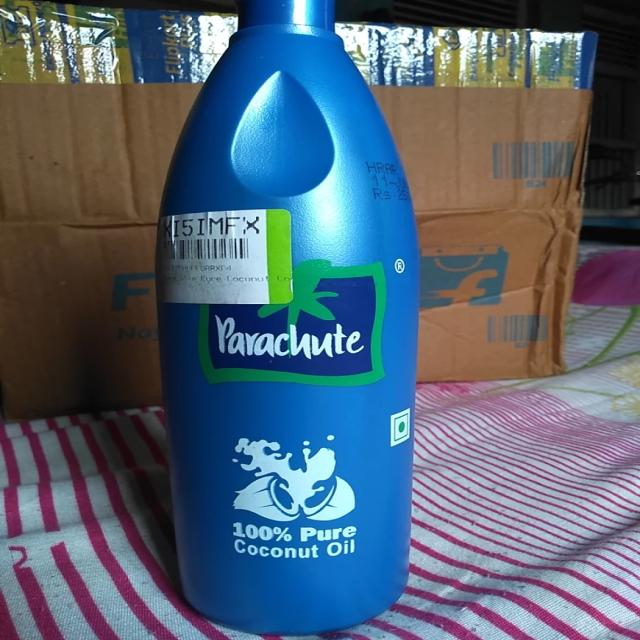parachute_oil: (136, 0, 424, 640)
